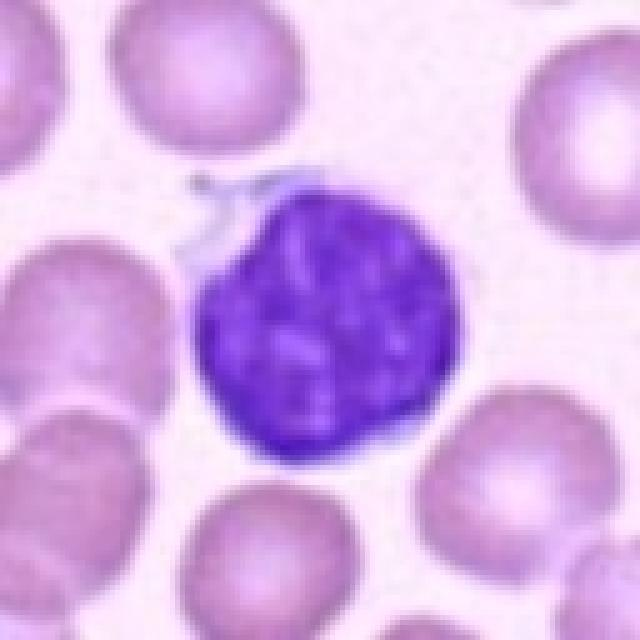lympho: (162, 165, 473, 475)
